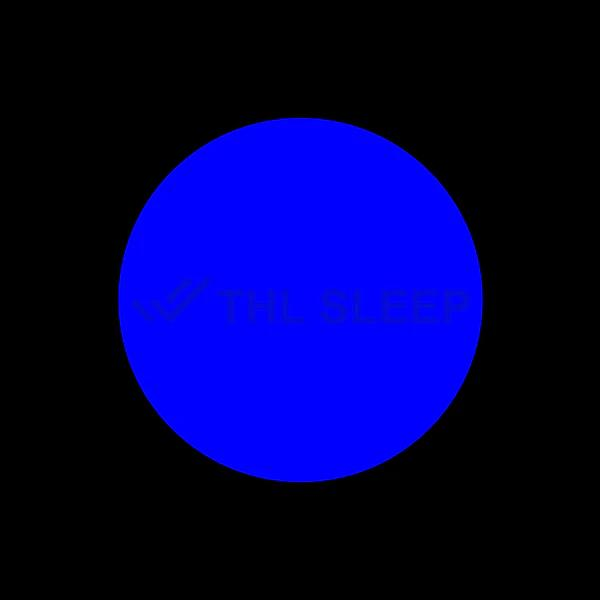blue_circle: (105, 117, 498, 498)
